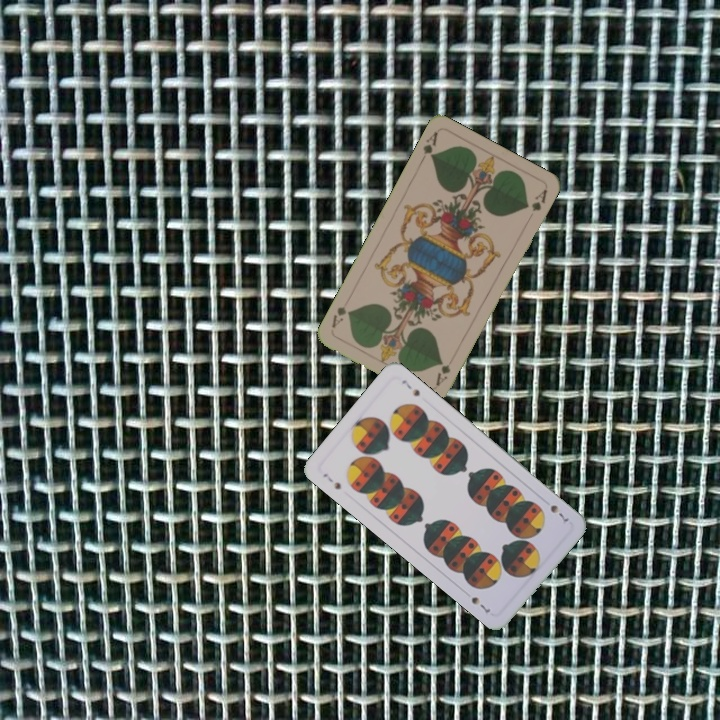GA: (416, 127, 441, 166), (432, 351, 458, 388)
S7: (546, 501, 572, 525), (319, 469, 344, 492)
